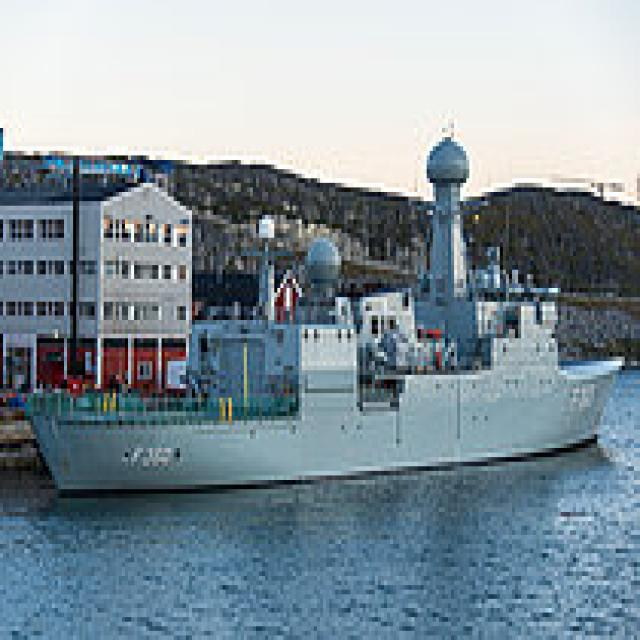Warship: (18, 128, 622, 494)
